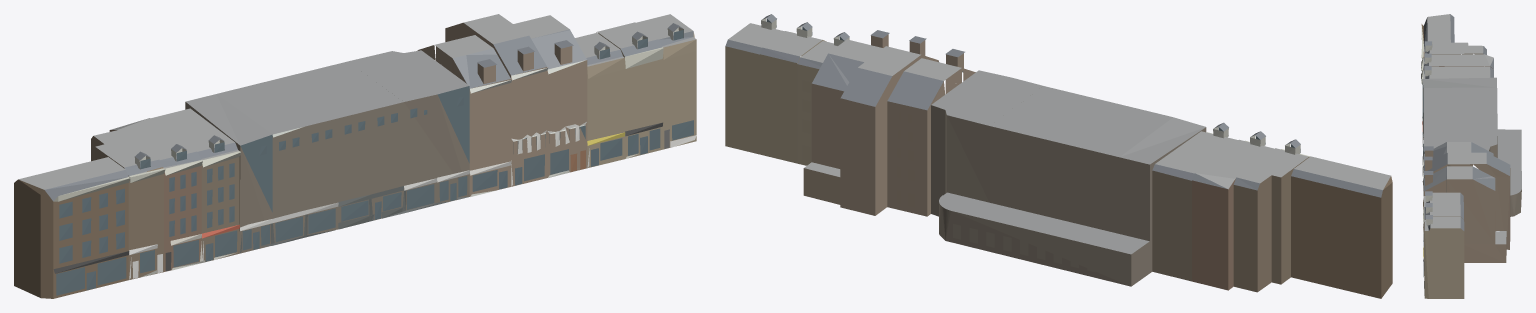
File: chunk-face-kinker-1-29.lod2.glb
3 views of the same model, side by side, from view 1: azimuth 30°, elevation 25°; view 2: azimuth 150°, elevation 25°; view 3: azimuth 270°, elevation 25° (orthographic). The views are drawn at different scales.
Parts seen in each view (by area): view 1: lod2; view 2: lod2; view 3: lod2.
Boxes of the visible parts, box(x1,y1,x2,y2) form: lod2: box(14, 14, 696, 298); lod2: box(725, 14, 1392, 298); lod2: box(1421, 14, 1521, 298).
Size of the model in its own units: 95.98 by 17.99 by 19.17.
